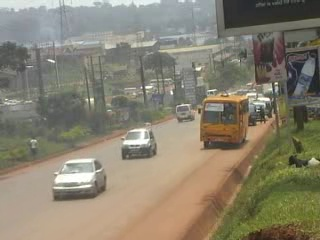Car: (48, 156, 107, 203), (119, 124, 160, 164)
